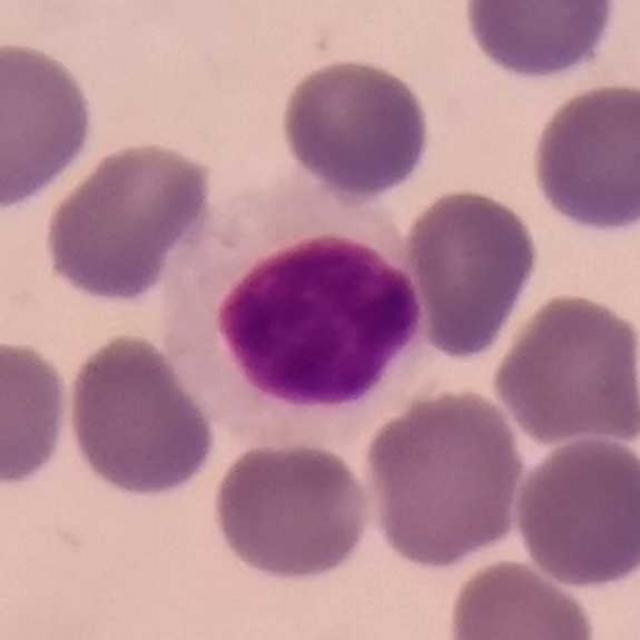Lymphocyte: (155, 163, 451, 454)
RBC: (359, 383, 530, 571), (39, 136, 218, 306), (62, 327, 220, 503), (401, 184, 543, 360), (209, 436, 375, 586), (487, 288, 640, 448), (277, 54, 435, 202), (510, 431, 640, 591), (526, 78, 640, 237), (0, 34, 99, 215), (443, 554, 602, 640), (458, 0, 622, 83), (0, 333, 73, 492)
